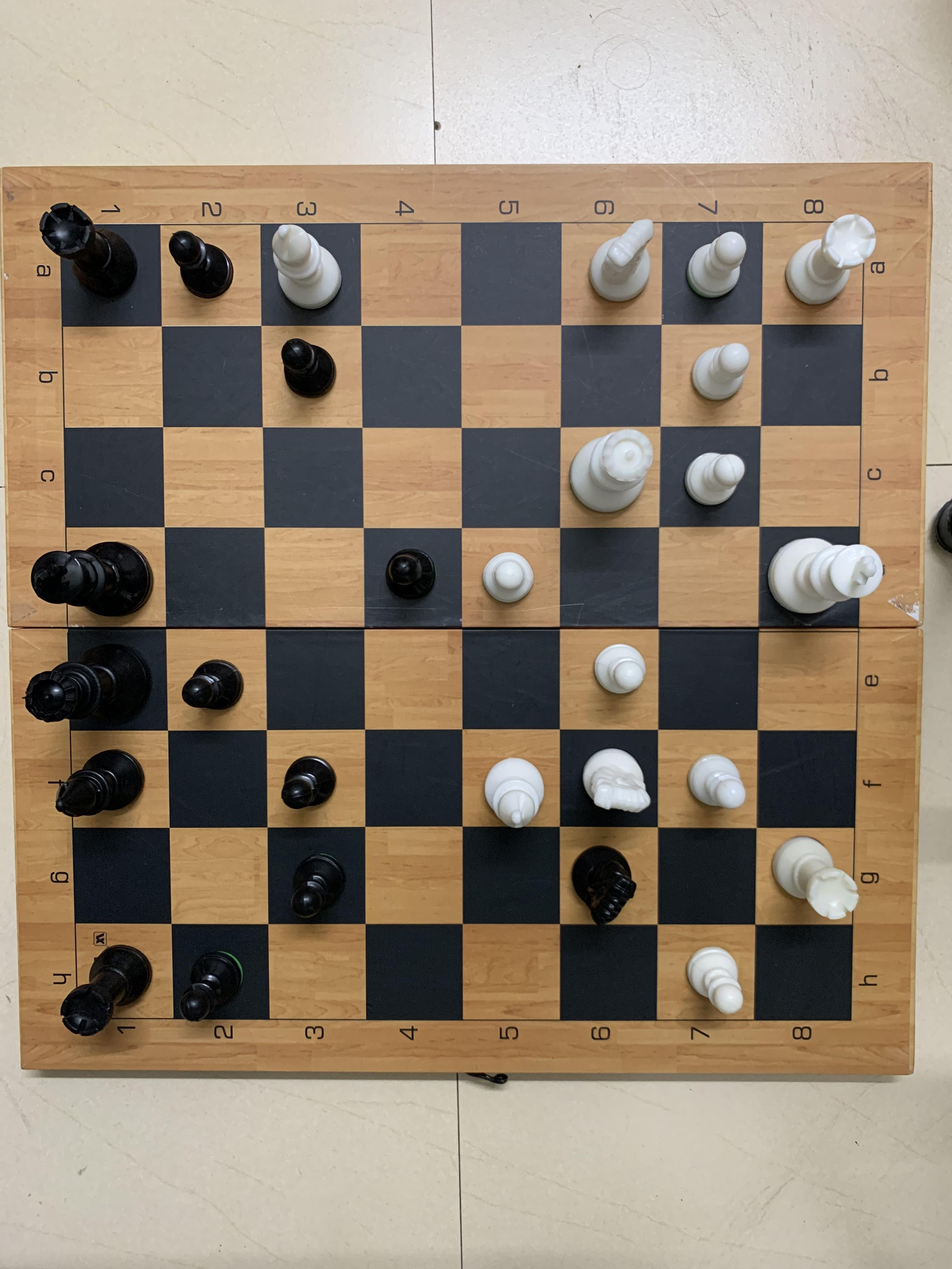black_bishop: (49, 740, 156, 829)
black_king: (25, 527, 161, 629)
black_knight: (564, 831, 654, 926)
black_pawn: (173, 937, 263, 1040), (161, 221, 250, 323), (271, 734, 360, 828), (370, 539, 462, 626), (268, 329, 348, 414), (172, 644, 254, 725), (274, 845, 353, 924)
black_queen: (25, 634, 156, 736)
black_rook: (28, 199, 161, 323), (50, 935, 163, 1042)
white_bishop: (261, 213, 354, 320), (466, 738, 555, 834)
white_king: (757, 518, 895, 625)
white_knight: (578, 210, 664, 313), (575, 738, 658, 823)
white_pawn: (669, 930, 762, 1022), (675, 336, 768, 421), (671, 730, 755, 822), (578, 627, 659, 721), (675, 222, 754, 318), (466, 535, 552, 618), (672, 430, 752, 512)
white_queen: (568, 422, 662, 533)
white_rook: (778, 202, 891, 322), (759, 825, 866, 932)
